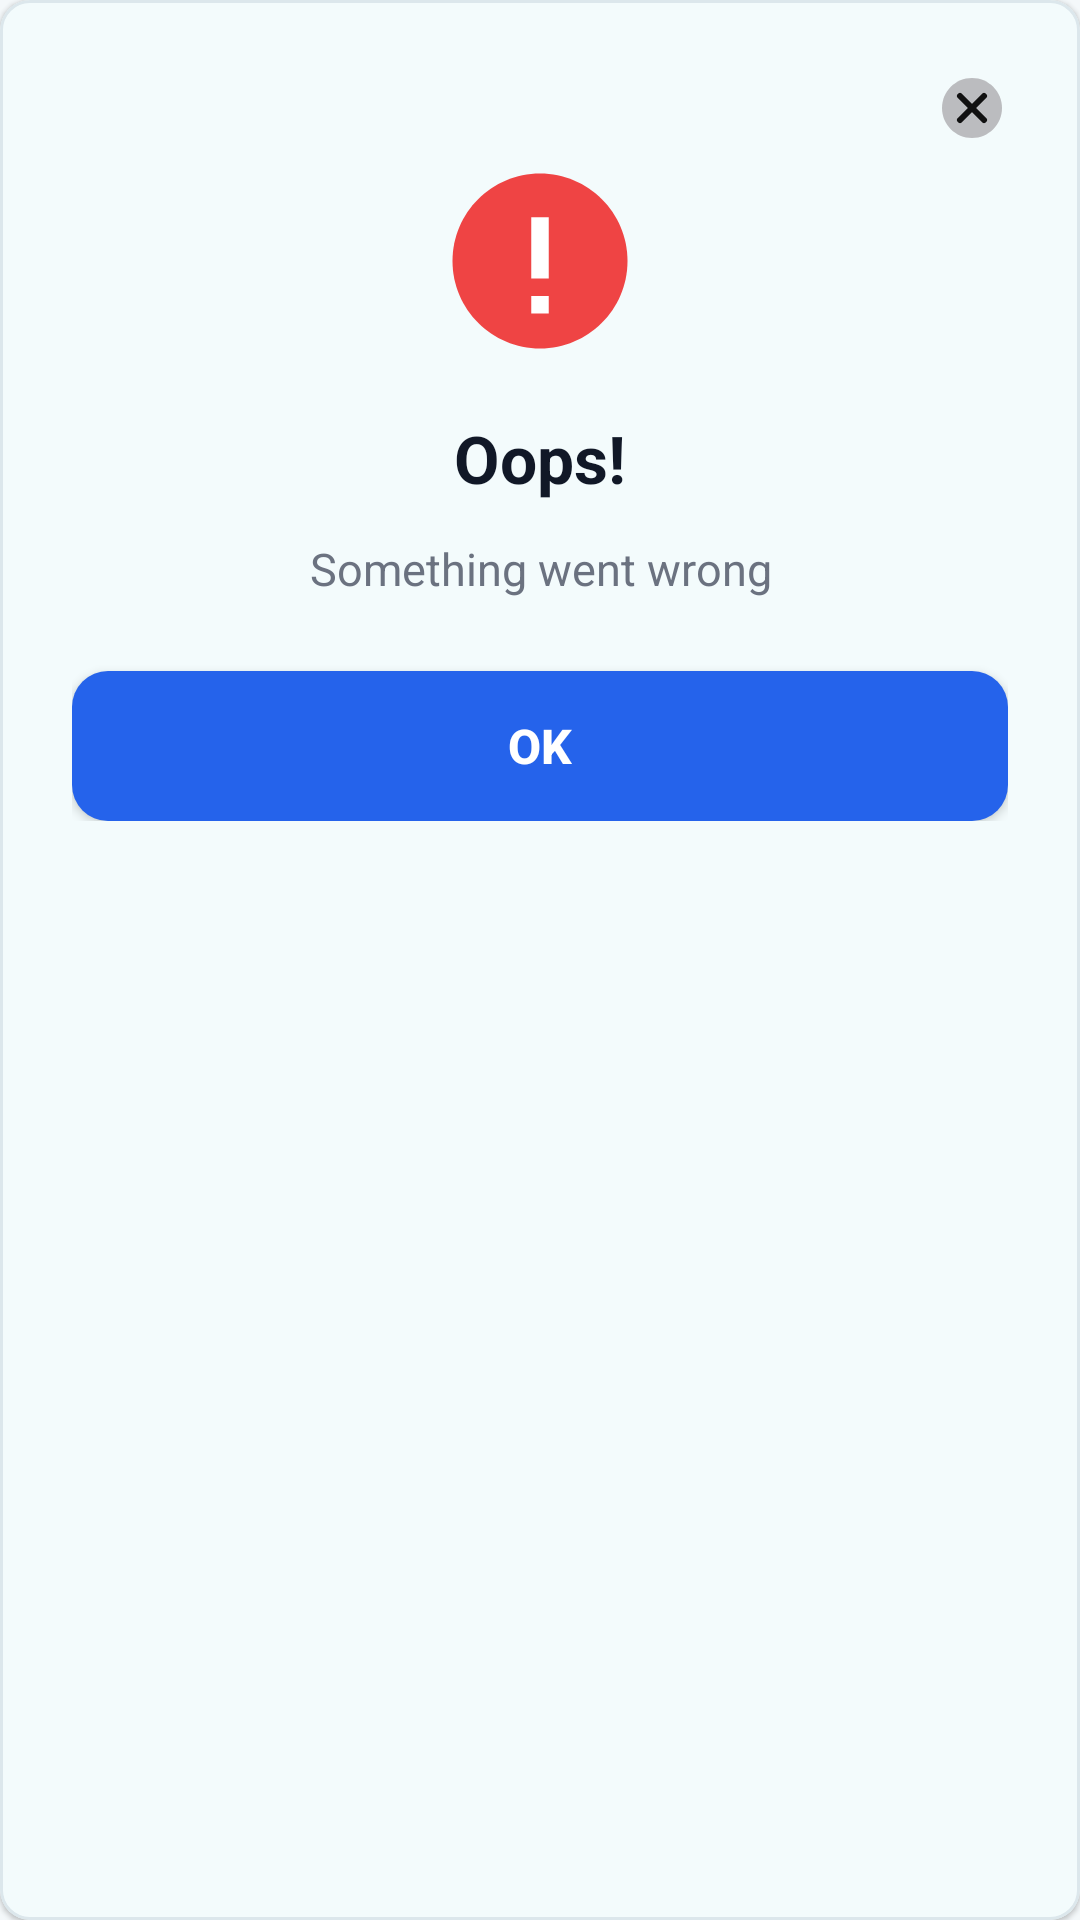

Named icons in this screenshot (1080 x 1920) and their centers, [x,y]:
close: [972,108]
error: [540,261]
